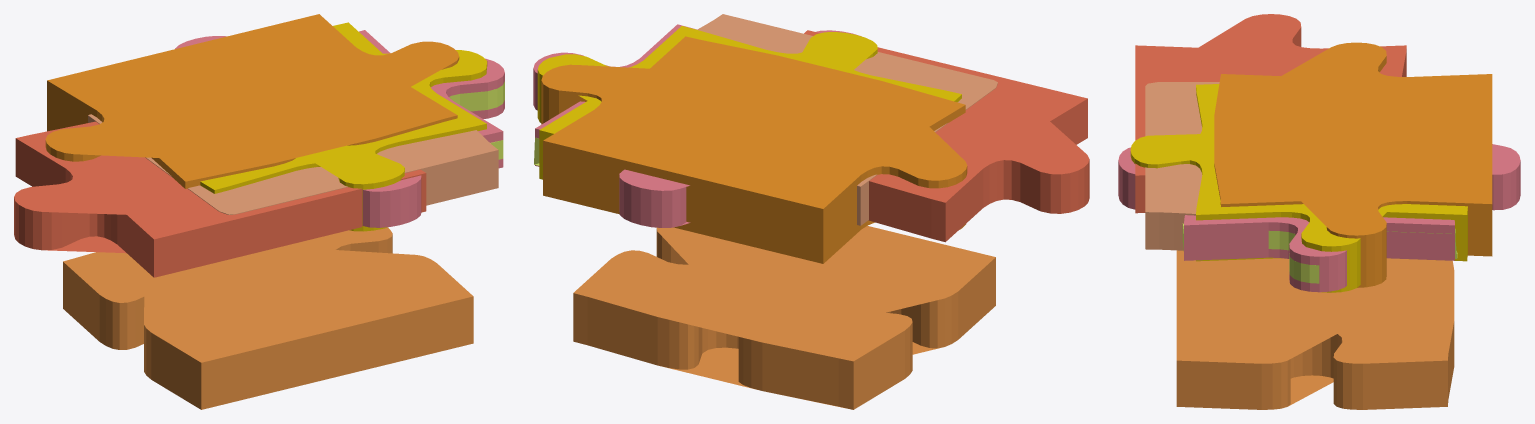
File: jigsaw-puzzle.fbx
3 renders of one model, left to right at view 1: azimuth 30°, elevation 25°; view 2: azimuth 150°, elevation 25°; view 3: azimuth 270°, elevation 25°, orthographic. The views are drawn at different scales.
Parts seen in each view (by area): view 1: Curve.005, Curve.008, Curve.003, Curve.001, Curve.004, Curve.006, Curve.007; view 2: Curve.008, Curve.005, Curve.003, Curve.004, Curve.001, Curve.006; view 3: Curve.008, Curve.005, Curve.006, Curve.003, Curve.004, Curve.001, Curve.007.
Boxes of the visible parts, <box> form: Curve.005: <box>63,227,473,409</box>; Curve.008: <box>45,14,459,188</box>; Curve.003: <box>14,121,426,277</box>; Curve.001: <box>88,114,498,214</box>; Curve.004: <box>200,22,487,231</box>; Curve.006: <box>175,30,504,227</box>; Curve.007: <box>449,81,504,159</box>; Curve.008: <box>541,36,967,263</box>; Curve.005: <box>573,226,995,409</box>; Curve.003: <box>804,30,1089,242</box>; Curve.004: <box>537,26,961,179</box>; Curve.001: <box>697,14,997,225</box>; Curve.006: <box>533,24,861,227</box>; Curve.008: <box>1214,42,1492,287</box>; Curve.005: <box>1176,250,1454,409</box>; Curve.006: <box>1118,144,1520,292</box>; Curve.003: <box>1135,14,1406,213</box>; Curve.004: <box>1130,84,1467,292</box>; Curve.001: <box>1145,82,1219,250</box>; Curve.007: <box>1182,223,1457,283</box>.
Bounding box in the file's own units: 0.8433 × 0.3349 × 0.5929.
